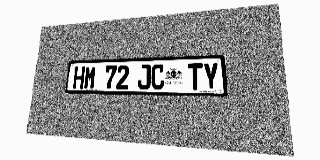2: (116, 65, 129, 89)
7: (104, 65, 117, 89)
C: (151, 64, 165, 90)
H: (72, 66, 85, 89)
J: (137, 64, 151, 90)
M: (84, 66, 97, 89)
T: (188, 63, 203, 90)
Y: (203, 62, 219, 90)
